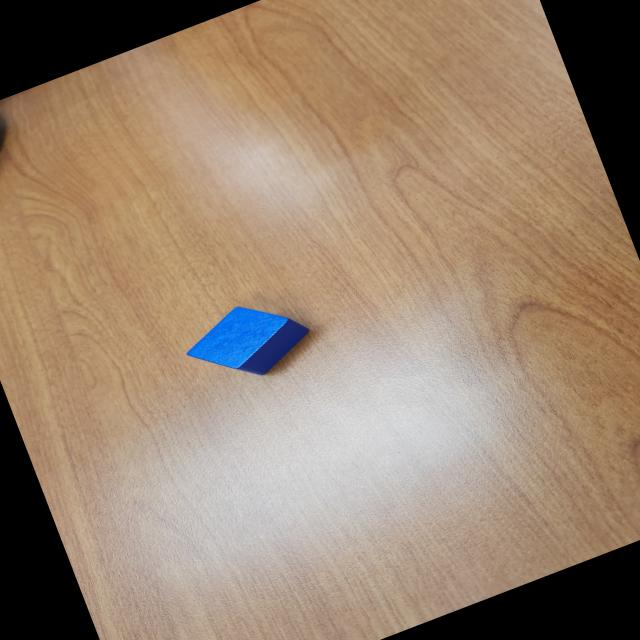blue: (176, 284, 320, 399)
